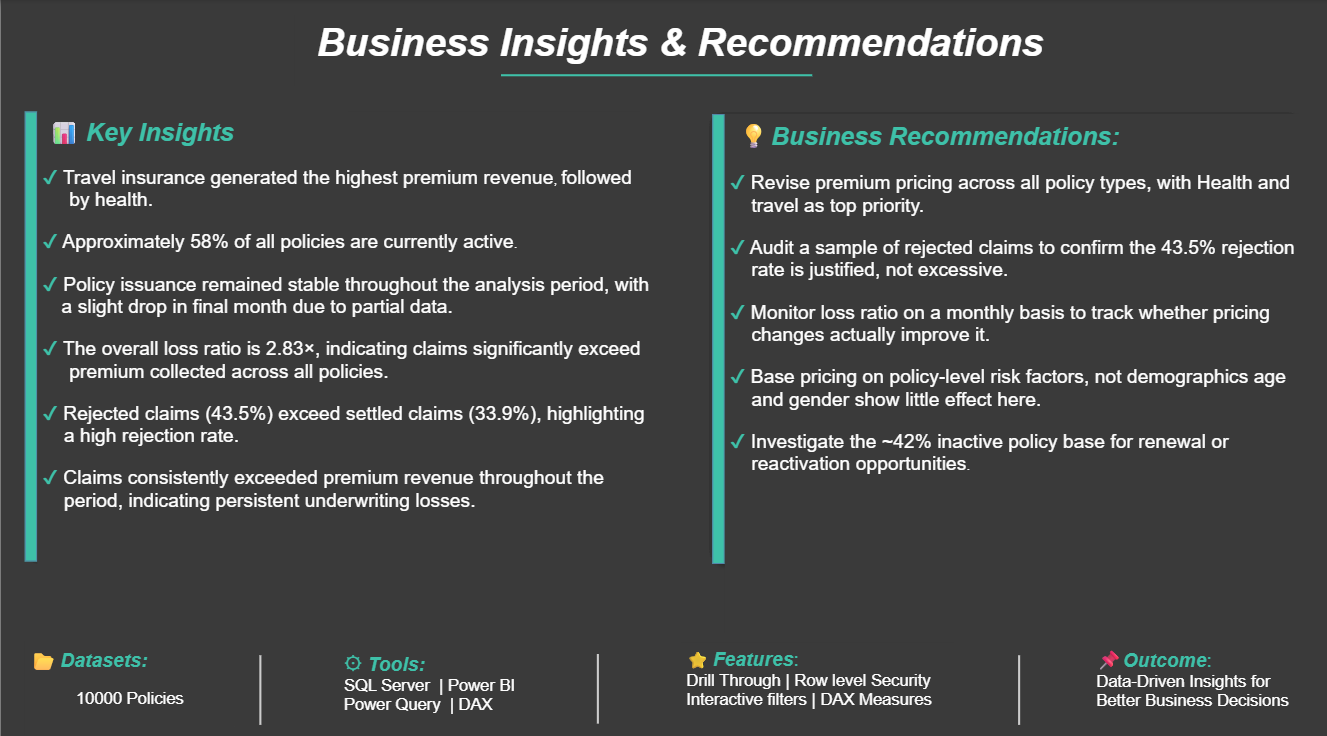

What the dashboard file says about the page in this screenshot:
{"tool":"powerbi","page":{"name":"Business Insights & Recommendations","canvas":[1280,720],"ordinal":2},"visuals":[{"type":"textbox","box":[283.5,15.7,743.2,68.8],"z":0},{"type":"shape","box":[22.9,108.6,605.6,436.7],"z":1000},{"type":"shape","box":[22.9,108.6,12.1,434.3],"z":2000},{"type":"textbox","box":[35,108.6,598.4,436.7],"z":3000},{"type":"shape","box":[674.4,100.1,589.9,453.6],"z":4000},{"type":"shape","box":[686.5,111,12.1,434.3],"z":5000},{"type":"textbox","box":[698.5,111,565.8,500.7],"z":6000},{"type":"textbox","box":[22.9,620.1,202.7,90.5],"z":6001},{"type":"textbox","box":[325.7,620.1,202.7,90.5],"z":6002},{"type":"textbox","box":[1052,620.1,202.7,90.5],"z":6003},{"type":"textbox","box":[656.3,621.3,263,90.5],"z":6004},{"type":"shape","box":[225.6,633.4,49.5,67.6],"z":6005},{"type":"shape","box":[551.3,632.2,49.5,67.6],"z":6006},{"type":"shape","box":[957.9,633.4,49.5,67.6],"z":6007},{"type":"shape","box":[482.6,36.2,300.4,74.8],"z":6008}]}

Visuals, with their boxes in screenshot pixels (x1, y1, x2, y2), scaled from the page's 1280x720 canvas onto the 1327x736 screenshot:
textbox: x1=294 y1=16 x2=1064 y2=86
shape: x1=24 y1=111 x2=652 y2=557
shape: x1=24 y1=111 x2=36 y2=555
textbox: x1=36 y1=111 x2=657 y2=557
shape: x1=699 y1=102 x2=1311 y2=566
shape: x1=712 y1=113 x2=724 y2=557
textbox: x1=724 y1=113 x2=1311 y2=625
textbox: x1=24 y1=634 x2=234 y2=726
textbox: x1=338 y1=634 x2=548 y2=726
textbox: x1=1091 y1=634 x2=1301 y2=726
textbox: x1=680 y1=635 x2=953 y2=728
shape: x1=234 y1=647 x2=285 y2=717
shape: x1=572 y1=646 x2=623 y2=715
shape: x1=993 y1=647 x2=1044 y2=717
shape: x1=500 y1=37 x2=812 y2=113
